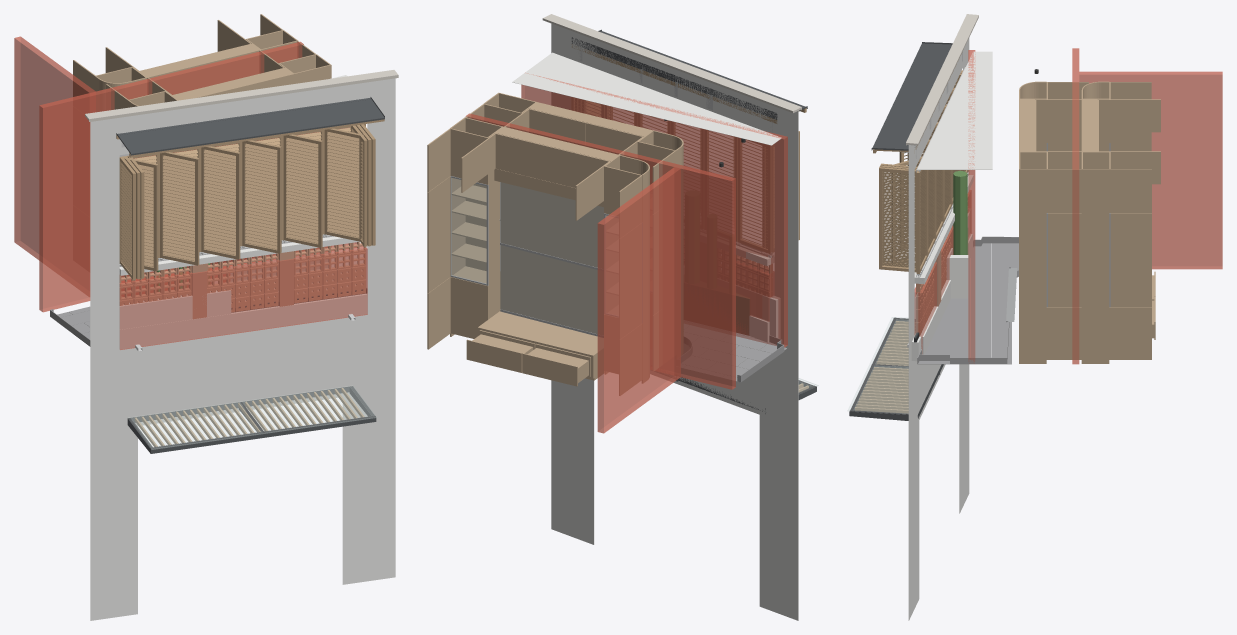
File: mat_tien.glb
The picture shows the model from 3 angles, left to right: view 1: azimuth 30°, elevation 25°; view 2: azimuth 150°, elevation 25°; view 3: azimuth 270°, elevation 25°; orthographic projection. The views are drawn at different scales.
Parts seen in each view (by area): view 1: Sơn ngoài màu trắng — mặt tiền tầng 1 và tầng 2 (×2), Lan can, kính và chậu cây cũ trên mép ban công (phá), Vách cũ hành lang phòng ngủ 3 (phá), Vách cũ phòng thờ | phòng ngủ 3 (phá), Gạch bông gió lan can mặt tiền (4 hàng × 15 viên nguyên), Mái che lối vào — kính dán cường lực (che mưa), Mái hắt đỉnh ô mặt tiền — tấm nhôm che mưa dốc 5%, Tủ kín trên cửa sổ (thân) (×2), Tấm lam 2 (Xoay 45°), Tấm lam 3 (Xoay 45°), Tấm lam 4 (Xoay 45°), Tấm lam 5 (Xoay 45°) (+24 smaller); view 2: Sơn ngoài màu trắng — mặt tiền tầng 1 và tầng 2 (×2), Tường cũ trục 1′ (phá), Vách cũ hành lang phòng ngủ 3 (phá), Vách cũ phòng thờ | phòng ngủ 3 (phá), Hai tháp kệ sách 597 và 602 × sâu 400 sàn tới trần (cách tườ, Mặt vải lớp cản sáng (hạ hết), Đáy ô sàn mặt tiền và dầm sau — trát sơn trắng (giữ), Cánh tháp kệ Đông Bắc (mở) (×2), Mặt vải lớp cản sáng (nửa), Cánh tủ trên cửa sổ (2 cánh) (×2), Cánh tháp kệ Tây Nam (mở), Cánh đặc tháp kệ Tây Nam (dưới + trên) (×2) (+22 smaller); view 3: Cánh tháp kệ Tây Nam (mở) (×2), Vách cũ hành lang phòng ngủ 3 (phá), Sơn ngoài màu trắng — mặt tiền tầng 1 và tầng 2 (×2), Hai tháp kệ sách 597 và 602 × sâu 400 sàn tới trần (cách tườ, Hai tháp kệ sách 598 và 602 × sâu 400 sàn tới trần (cách tườ, Sàn ban công — gạch vân đá xám 600×300 lát so le, Đáy ô sàn mặt tiền và dầm sau — trát sơn trắng (giữ), Cánh tủ trên cửa sổ (2 cánh) (mở) (×2), Mái che lối vào — kính dán cường lực (che mưa), Mái hắt đỉnh ô mặt tiền — tấm nhôm che mưa dốc 5%, Mái che lối vào — nan nhôm vân gỗ dưới kính, Cánh tháp kệ Đông Bắc (mở) (×2) (+20 smaller).
Part boxes in pixels (left/top/right/bottom): Sơn ngoài màu trắng — mặt tiền tầng 1 và tầng 2 (×2): left=90, top=78, right=395, bottom=620; Lan can, kính và chậu cây cũ trên mép ban công (phá): left=119, top=246, right=367, bottom=349; Vách cũ hành lang phòng ngủ 3 (phá): left=14, top=36, right=95, bottom=296; Vách cũ phòng thờ | phòng ngủ 3 (phá): left=39, top=41, right=303, bottom=312; Gạch bông gió lan can mặt tiền (4 hàng × 15 viên nguyên): left=119, top=242, right=365, bottom=312; Mái che lối vào — kính dán cường lực (che mưa): left=128, top=386, right=376, bottom=449; Mái hắt đỉnh ô mặt tiền — tấm nhôm che mưa dốc 5%: left=117, top=99, right=384, bottom=154; Tủ kín trên cửa sổ (thân) (×2): left=139, top=44, right=293, bottom=100; Tấm lam 2 (Xoay 45°): left=160, top=152, right=199, bottom=265; Tấm lam 3 (Xoay 45°): left=201, top=146, right=240, bottom=259; Tấm lam 4 (Xoay 45°): left=242, top=140, right=281, bottom=253; Tấm lam 5 (Xoay 45°): left=283, top=134, right=322, bottom=247; Sơn ngoài màu trắng — mặt tiền tầng 1 và tầng 2 (×2): left=551, top=23, right=798, bottom=620; Tường cũ trục 1′ (phá): left=521, top=72, right=787, bottom=347; Vách cũ hành lang phòng ngủ 3 (phá): left=597, top=167, right=680, bottom=433; Vách cũ phòng thờ | phòng ngủ 3 (phá): left=465, top=113, right=735, bottom=389; Hai tháp kệ sách 597 và 602 × sâu 400 sàn tới trần (cách tườ: left=450, top=117, right=649, bottom=383; Mặt vải lớp cản sáng (hạ hết): left=500, top=245, right=603, bottom=335; Đáy ô sàn mặt tiền và dầm sau — trát sơn trắng (giữ): left=512, top=52, right=781, bottom=145; Cánh tháp kệ Đông Bắc (mở) (×2): left=619, top=151, right=675, bottom=395; Mặt vải lớp cản sáng (nửa): left=500, top=182, right=603, bottom=268; Cánh tủ trên cửa sổ (2 cánh) (×2): left=495, top=108, right=643, bottom=187; Cánh tháp kệ Tây Nam (mở): left=427, top=128, right=450, bottom=349; Cánh đặc tháp kệ Tây Nam (dưới + trên) (×2): left=450, top=103, right=521, bottom=338; Cánh tháp kệ Tây Nam (mở) (×2): left=1048, top=169, right=1151, bottom=359; Vách cũ hành lang phòng ngủ 3 (phá): left=1079, top=71, right=1222, bottom=269; Sơn ngoài màu trắng — mặt tiền tầng 1 và tầng 2 (×2): left=908, top=38, right=969, bottom=620; Hai tháp kệ sách 597 và 602 × sâu 400 sàn tới trần (cách tườ: left=1081, top=81, right=1109, bottom=363; Hai tháp kệ sách 598 và 602 × sâu 400 sàn tới trần (cách tườ: left=1019, top=81, right=1046, bottom=363; Sàn ban công — gạch vân đá xám 600×300 lát so le: left=917, top=243, right=1018, bottom=364; Đáy ô sàn mặt tiền và dầm sau — trát sơn trắng (giữ): left=917, top=51, right=992, bottom=169; Cánh tủ trên cửa sổ (2 cánh) (mở) (×2): left=1036, top=99, right=1160, bottom=184; Mái che lối vào — kính dán cường lực (che mưa): left=847, top=317, right=908, bottom=414; Mái hắt đỉnh ô mặt tiền — tấm nhôm che mưa dốc 5%: left=872, top=43, right=951, bottom=150; Mái che lối vào — nan nhôm vân gỗ dưới kính: left=855, top=321, right=915, bottom=413; Cánh tháp kệ Đông Bắc (mở) (×2): left=1048, top=82, right=1151, bottom=151.
Size of the model in its own units: 4.44 by 7.63 by 5.42.
